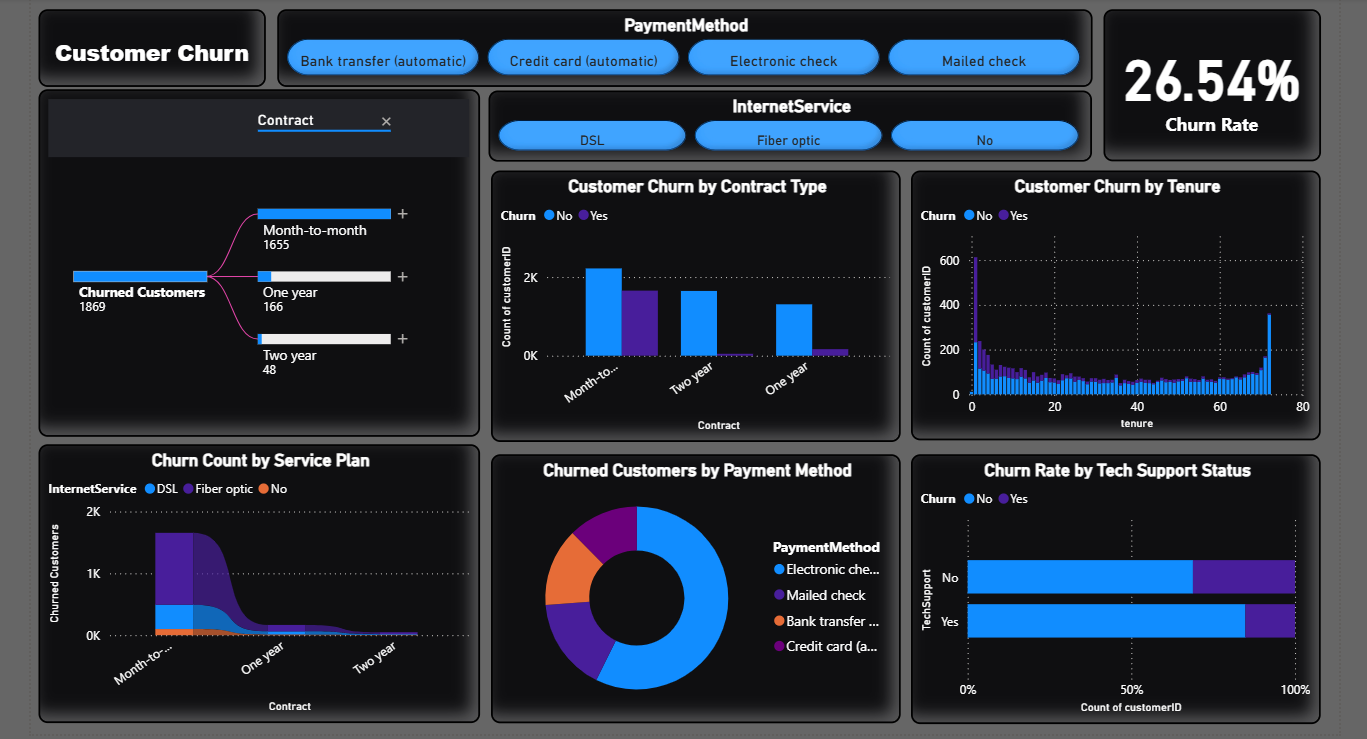

This screenshot's page, from the dashboard's own definition file:
{"tool":"powerbi","page":{"name":"Page 1","canvas":[1280,720],"ordinal":0},"visuals":[{"type":"textbox","box":[7.3,11,222.6,75.8],"z":0},{"type":"clusteredColumnChart","title":"Customer Churn by Contract Type","fields":{"Category":["Telco_Cust_Churn.Contract"],"Y":["CountNonNull(Telco_Cust_Churn.customerID)"],"Series":["Telco_Cust_Churn.Churn"]},"box":[450,168.8,401.1,265.4],"z":1000},{"type":"columnChart","title":"Customer Churn by Tenure","fields":{"Category":["Telco_Cust_Churn.tenure"],"Series":["Telco_Cust_Churn.Churn"],"Y":["CountNonNull(Telco_Cust_Churn.customerID)"]},"box":[860.9,168.8,401.1,264.1],"z":2000},{"type":"donutChart","title":"Churned Customers by Payment Method","fields":{"Category":["Telco_Cust_Churn.PaymentMethod"],"Y":["CountNonNull(Telco_Cust_Churn.customerID)"]},"box":[450,446.3,401.1,262.9],"z":3000},{"type":"hundredPercentStackedBarChart","title":"Churn Rate by Tech Support Status","fields":{"Y":["CountNonNull(Telco_Cust_Churn.customerID)"],"Category":["Telco_Cust_Churn.TechSupport"],"Series":["Telco_Cust_Churn.Churn"]},"box":[860.9,446.3,401.1,264.1],"z":4000},{"type":"card","fields":{"Values":["Telco_Cust_Churn.Churn Rate"]},"box":[1049.2,11,212.8,149.2],"z":5000},{"type":"advancedSlicerVisual","fields":{"Values":["Telco_Cust_Churn.InternetService"]},"box":[447.6,90.5,590.6,69.7],"z":6000},{"type":"advancedSlicerVisual","fields":{"Values":["Telco_Cust_Churn.PaymentMethod"]},"box":[240.9,11,797.3,75.8],"z":7000},{"type":"decompositionTreeVisual","fields":{"Analyze":["Telco_Cust_Churn.Churned Customers"],"ExplainBy":["Telco_Cust_Churn.Contract","Telco_Cust_Churn.InternetService"]},"box":[7.3,89.3,431.7,339.9],"z":8000},{"type":"ribbonChart","title":"Churn Count by Service Plan","fields":{"Y":["Telco_Cust_Churn.Churned Customers"],"Category":["Telco_Cust_Churn.Contract"],"Series":["Telco_Cust_Churn.InternetService"]},"box":[7,437,432,273],"z":9000}]}

Visuals, with their boxes in screenshot pixels (x1, y1, x2, y2):
textbox: box=[39, 36, 265, 113]
"Customer Churn by Contract Type" clusteredColumnChart: box=[488, 196, 895, 465]
"Customer Churn by Tenure" columnChart: box=[905, 196, 1312, 464]
"Churned Customers by Payment Method" donutChart: box=[488, 478, 895, 738]
"Churn Rate by Tech Support Status" hundredPercentStackedBarChart: box=[905, 478, 1312, 738]
card - Telco_Cust_Churn.Churn Rate: box=[1096, 36, 1312, 187]
advancedSlicerVisual - Telco_Cust_Churn.InternetService: box=[486, 117, 1085, 187]
advancedSlicerVisual - Telco_Cust_Churn.PaymentMethod: box=[276, 36, 1085, 113]
decompositionTreeVisual - Telco_Cust_Churn.Churned Customers x Telco_Cust_Churn.Contract: box=[39, 115, 477, 460]
"Churn Count by Service Plan" ribbonChart: box=[39, 468, 477, 738]
